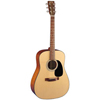guitar: (30, 1, 71, 100)
